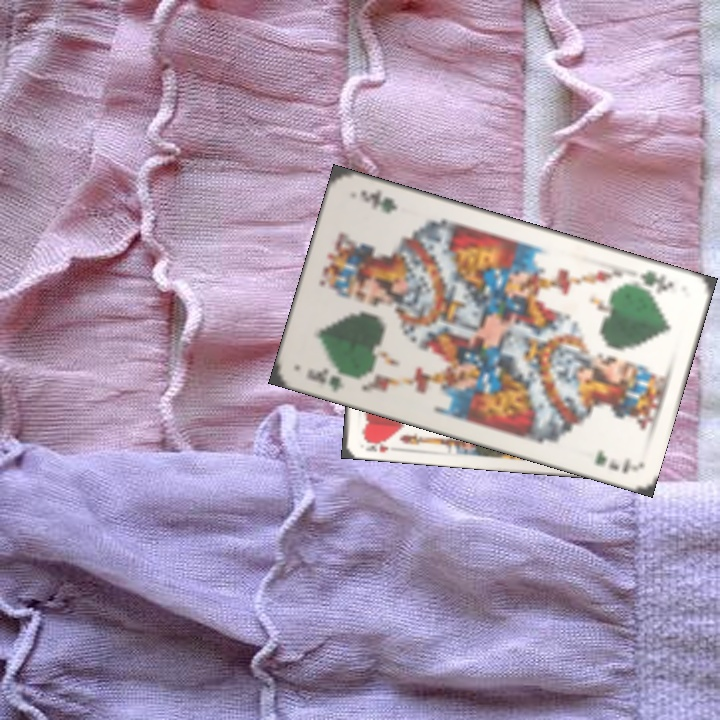GK: (302, 364, 348, 394), (635, 266, 676, 297)
HK: (360, 435, 391, 455)
